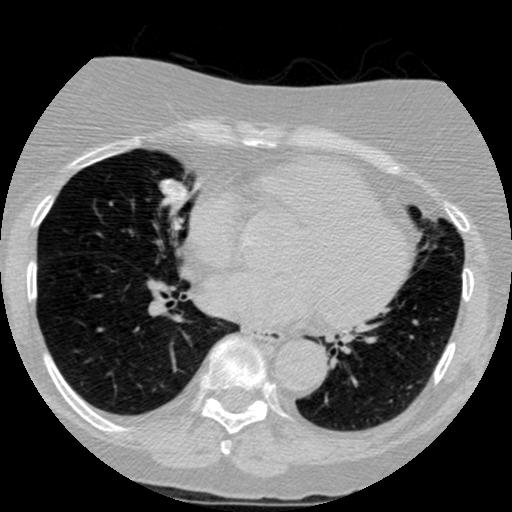nodule: (159, 177, 188, 206)
